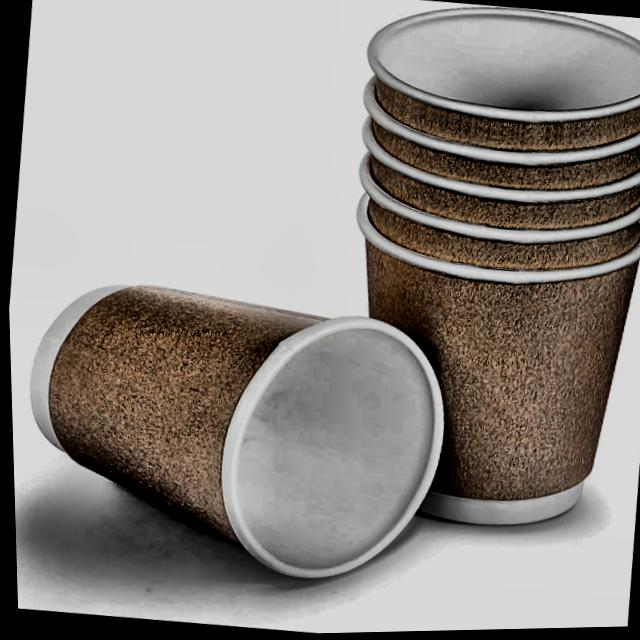Cup: (310, 0, 640, 553), (6, 259, 464, 610)
